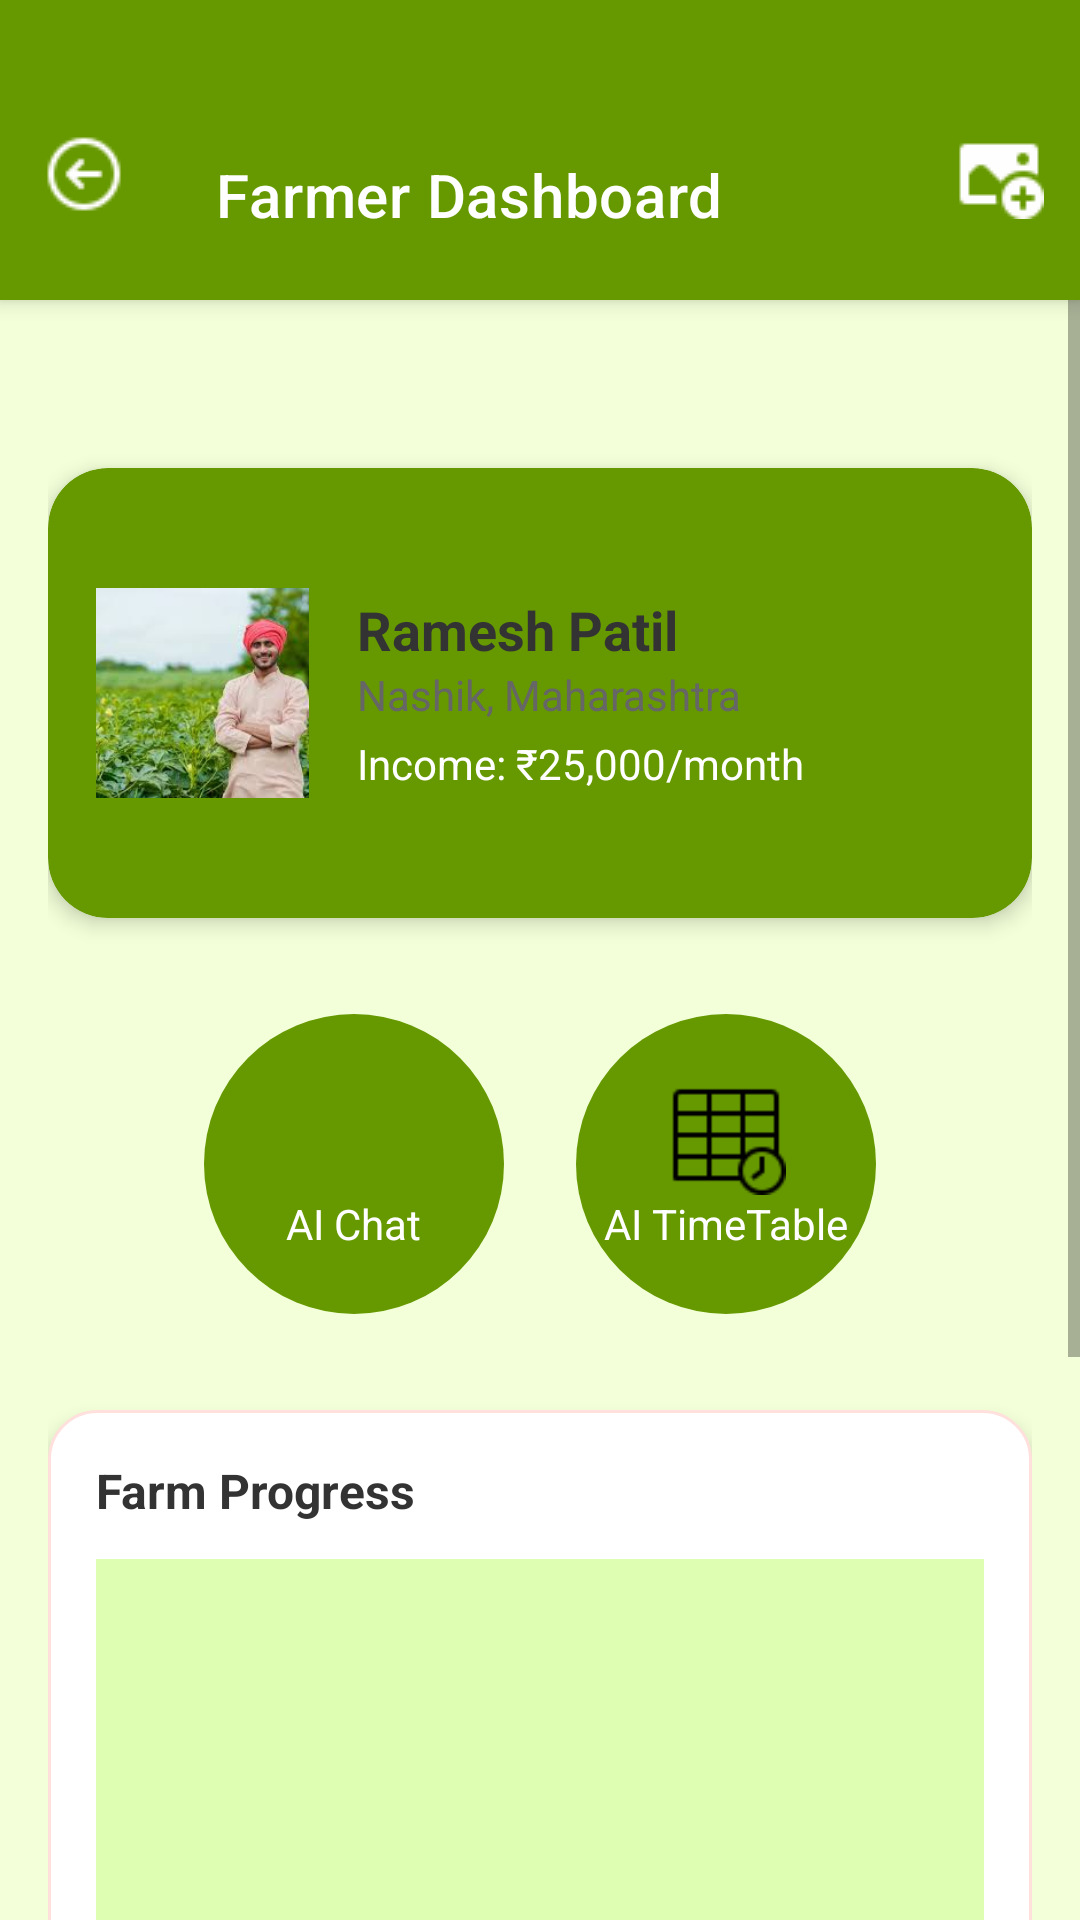

Named icons in this screenshot (1080x1920) and their bounding boxes, BBox(x1, y1, x2, y2):
farmer: BBox(96, 588, 309, 798)
